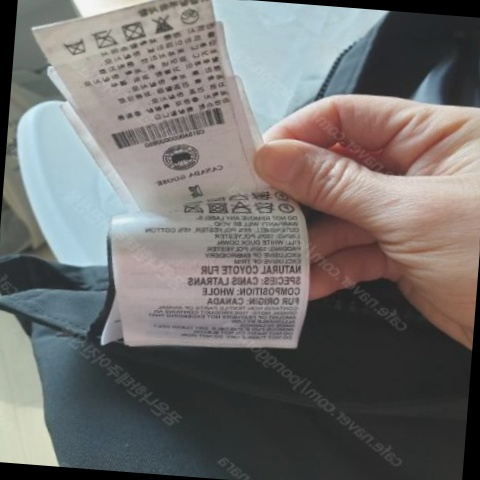DN_bleach: (151, 13, 175, 35), (228, 200, 252, 217)
DN_iron: (90, 25, 117, 51), (181, 200, 204, 217)
DN_tumble_dry: (117, 18, 147, 43), (205, 199, 230, 216)
DN_wash: (60, 35, 87, 57), (252, 201, 276, 216), (250, 188, 271, 204)
dry_clean: (178, 5, 201, 27)
dry_clean_any_solvent_except_trichloroethylene: (276, 202, 296, 215), (275, 188, 289, 202)
